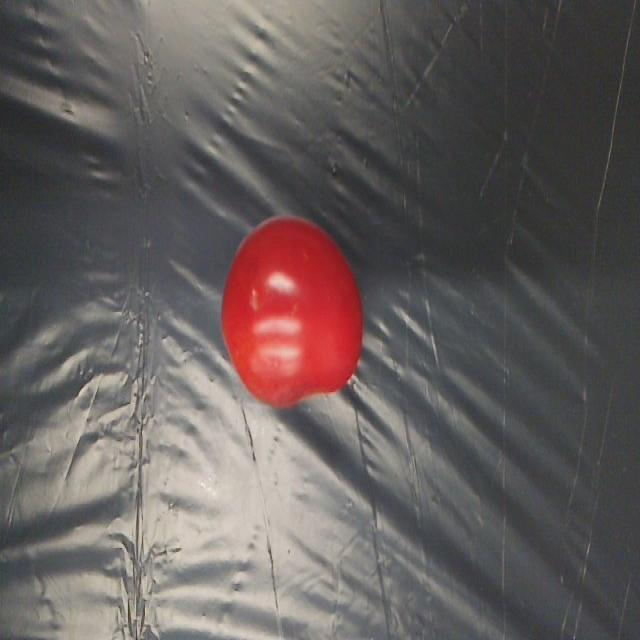kirmizi: (217, 208, 374, 424)
